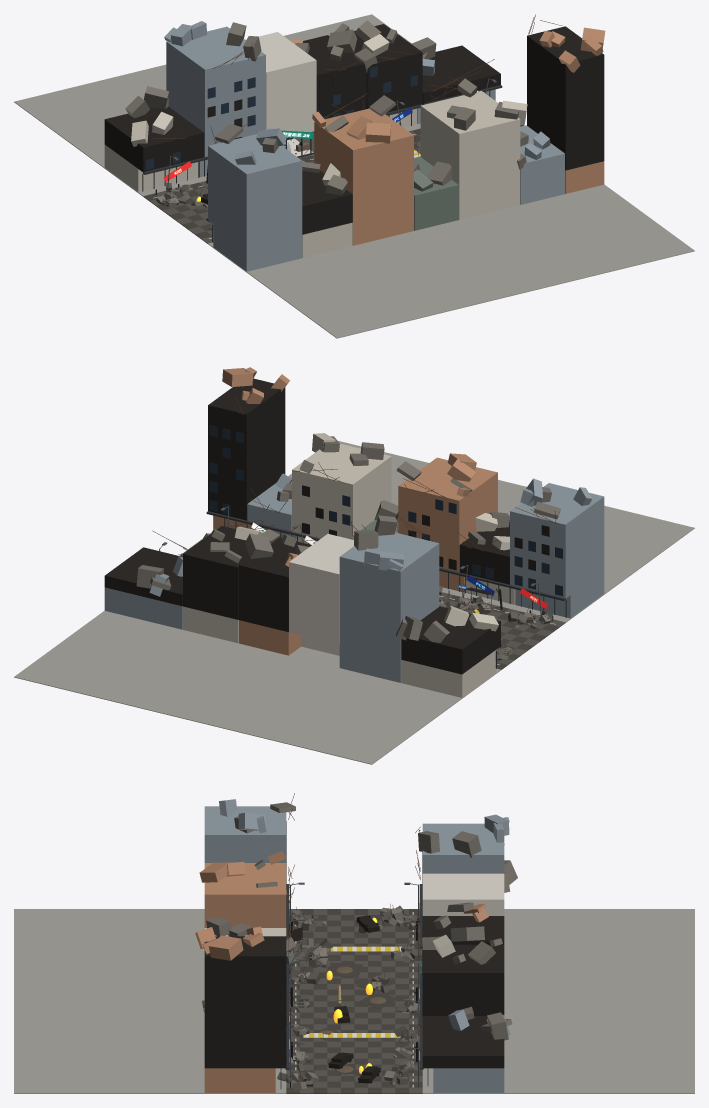
The model's file is map_seoul_ruins.glb.
3 views of the same model, one above another, from view 1: azimuth 30°, elevation 25°; view 2: azimuth 150°, elevation 25°; view 3: azimuth 270°, elevation 25° (orthographic). The views are drawn at different scales.
Visible parts, largest first — view 1: Map; view 2: Map; view 3: Map.
Part boxes in pixels (box(x1,y1,x2,y2)): Map: box(14, 14, 694, 338); Map: box(14, 367, 694, 764); Map: box(14, 793, 694, 1093).
Bounding box in the file's own units: 67.07 × 25.89 × 100.
32 materials, 1 textured.
